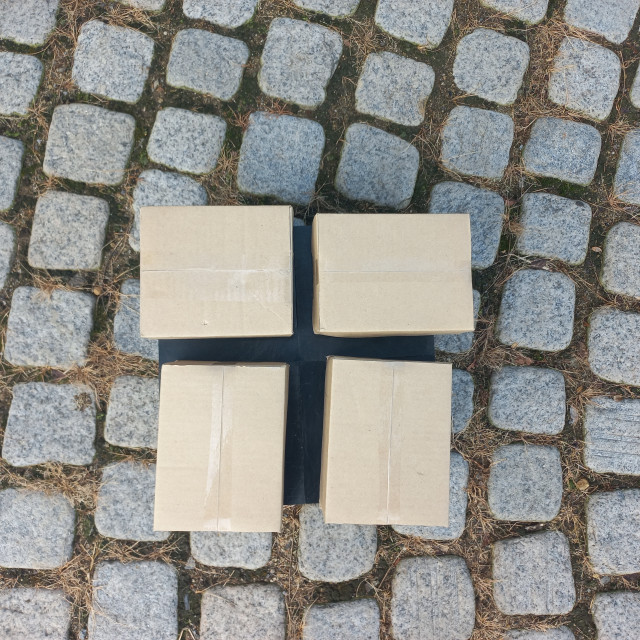box: (318, 357, 454, 532), (154, 360, 288, 535), (136, 201, 295, 340), (311, 210, 476, 337)
